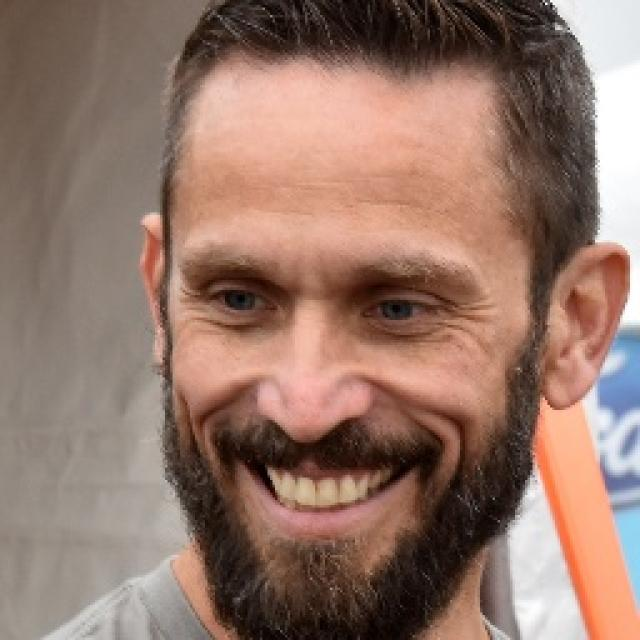earlobe: (548, 243, 630, 411)
